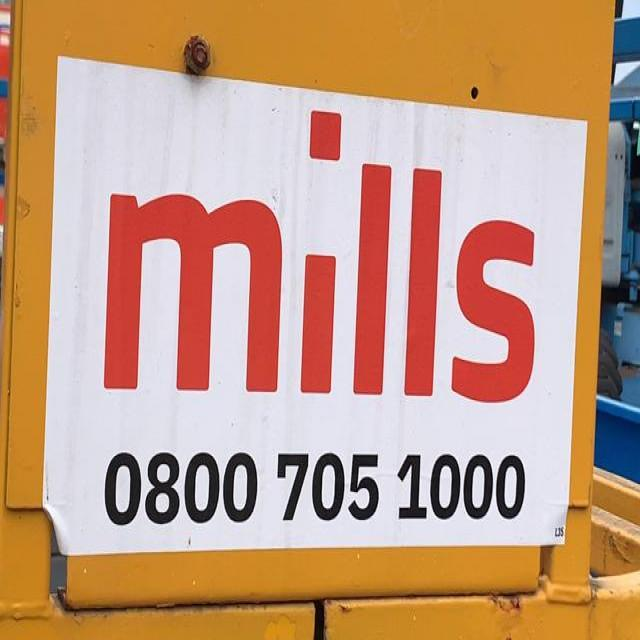Adesivos: (29, 42, 601, 571)
